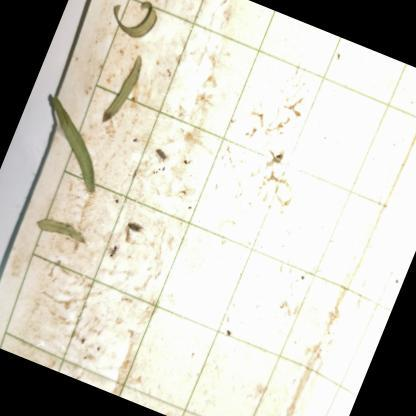prays_oleae: (142, 140, 175, 176), (121, 210, 152, 241), (99, 234, 127, 268)
